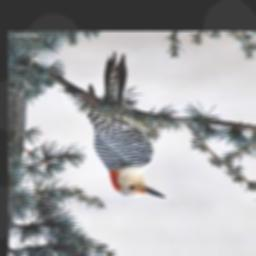Woodpecker: (87, 53, 166, 199)
